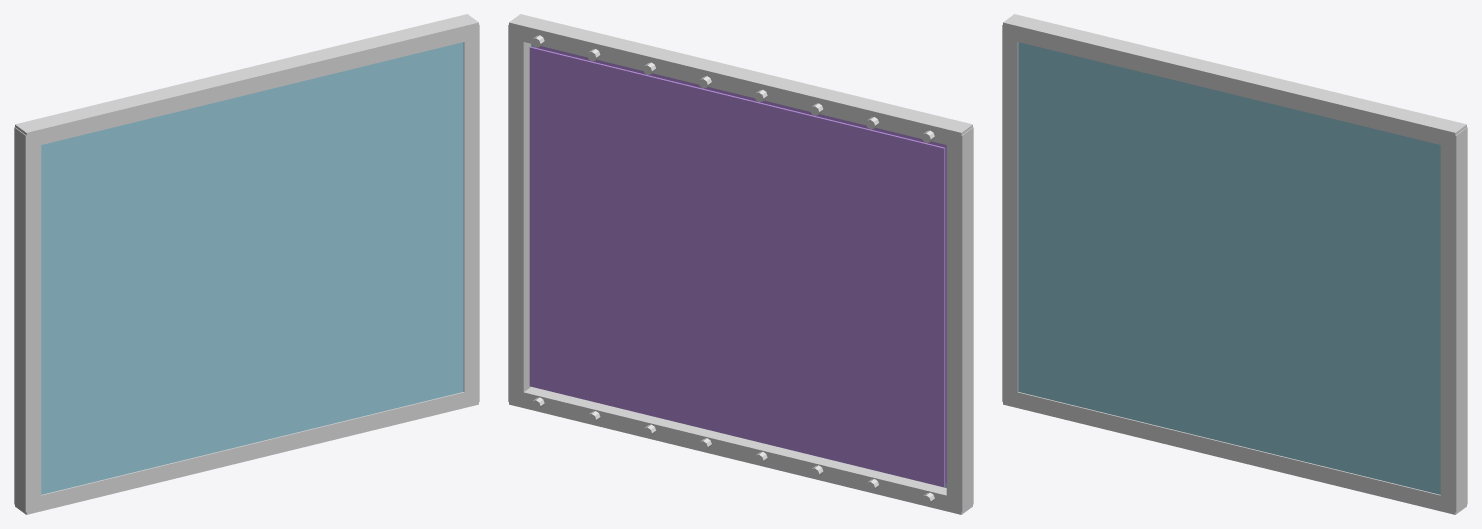
File: L71_03_QuartzPlasmaObservationViewport_Fitted.fbx
3 views of the same model, side by side, from view 1: azimuth 30°, elevation 25°; view 2: azimuth 150°, elevation 25°; view 3: azimuth 330°, elevation 25° (orthographic).
Visible parts, largest first — view 1: L71_QuartzPlasmaObservationViewport_Static__glass, L71_QuartzPlasmaObservationViewport_Static__tintB5C8D0; view 2: L71_QuartzPlasmaObservationViewport_Static__glass, L71_QuartzPlasmaObservationViewport_Static__tintB5C8D0, L71_QuartzPlasmaObservationViewport_Static__tint1B3245; view 3: L71_QuartzPlasmaObservationViewport_Static__glass, L71_QuartzPlasmaObservationViewport_Static__tintB5C8D0.
Part boxes in pixels (left/top/right/bottom): L71_QuartzPlasmaObservationViewport_Static__glass: left=41, top=42, right=463, bottom=494; L71_QuartzPlasmaObservationViewport_Static__tintB5C8D0: left=14, top=14, right=479, bottom=514; L71_QuartzPlasmaObservationViewport_Static__glass: left=529, top=44, right=946, bottom=487; L71_QuartzPlasmaObservationViewport_Static__tintB5C8D0: left=508, top=14, right=973, bottom=514; L71_QuartzPlasmaObservationViewport_Static__tint1B3245: left=531, top=35, right=934, bottom=504; L71_QuartzPlasmaObservationViewport_Static__glass: left=1018, top=42, right=1440, bottom=494; L71_QuartzPlasmaObservationViewport_Static__tintB5C8D0: left=1002, top=14, right=1467, bottom=514.
Size of the model in its own units: 21.67 by 17.42 by 1.3.
